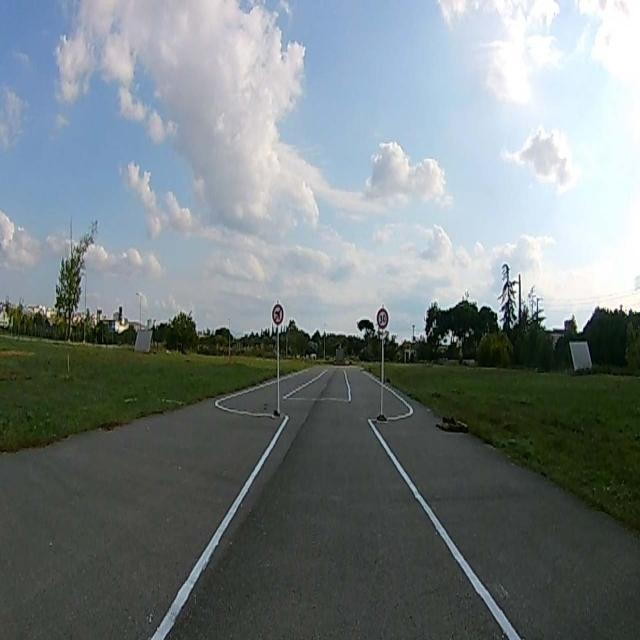30: (377, 309, 389, 328)
soladonulmez: (272, 304, 284, 324)
